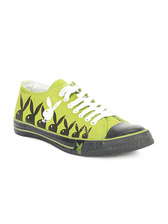shoes: (9, 76, 159, 159)
